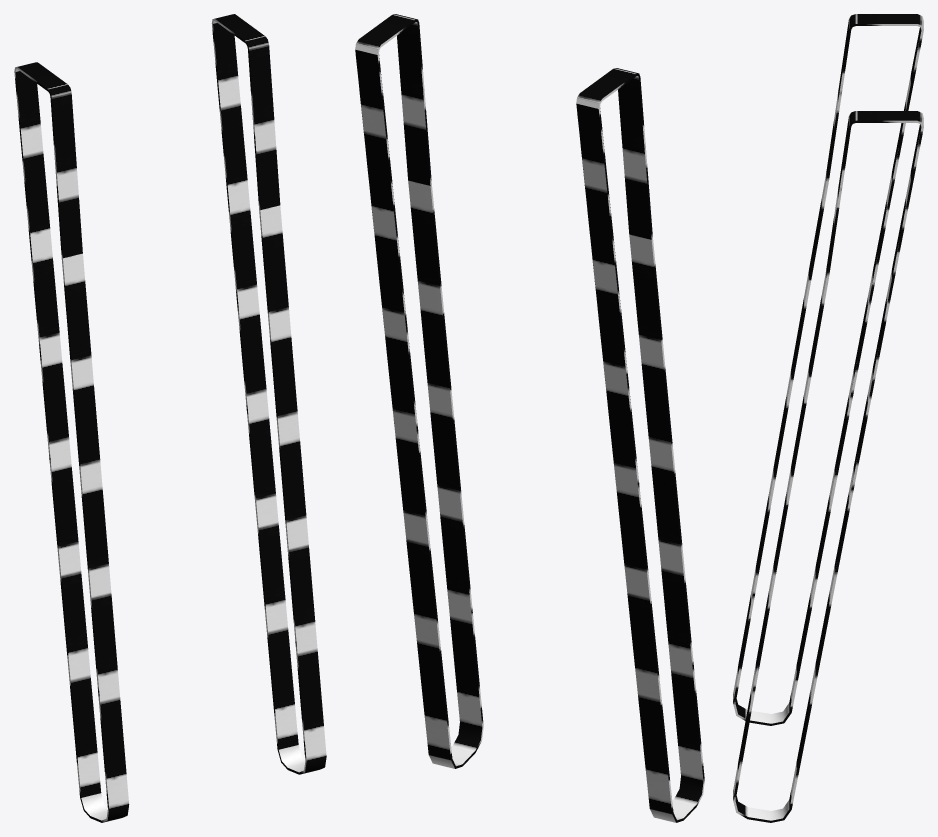
File: Blks_-_Fabric_-_Stripes_-_Black.obj
3 renders of one model, left to right at view 1: azimuth 30°, elevation 25°; view 2: azimuth 150°, elevation 25°; view 3: azimuth 270°, elevation 25°, orthographic. The views are drawn at different scales.
Bounding box in the file's own units: 0.1628 × 0.4993 × 0.1229.
1 material, 1 textured.
